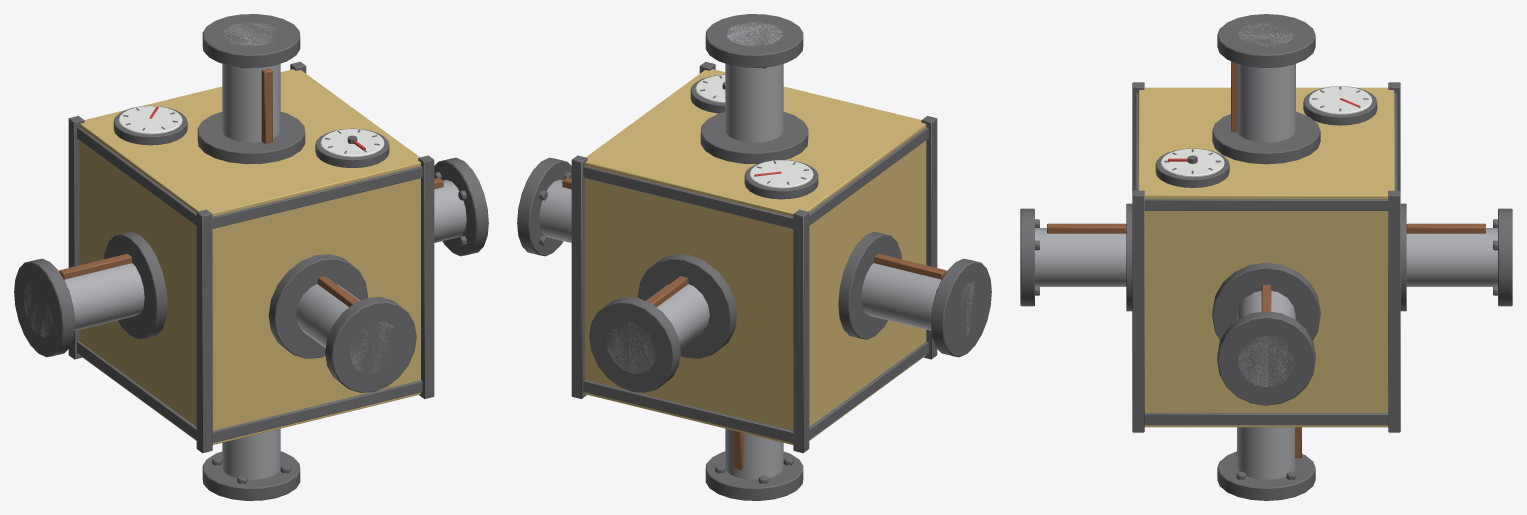
Rendered from feTorqueGauge.fbx.
3 views of the same model, side by side, from view 1: azimuth 30°, elevation 25°; view 2: azimuth 150°, elevation 25°; view 3: azimuth 270°, elevation 25° (orthographic).
Parts seen in each view (by area): view 1: feTorqueGauge_Base, FeSpin_Gauge4, FeSpin_Gauge2, FeSpin_Gauge5, FeSpin_Gauge6, FeSpin_Gauge3; view 2: feTorqueGauge_Base, FeSpin_Gauge4, FeSpin_Gauge1, FeSpin_Gauge5, FeSpin_Gauge6, FeSpin_Gauge3; view 3: feTorqueGauge_Base, FeSpin_Gauge5, FeSpin_Gauge3, FeSpin_Gauge1, FeSpin_Gauge2, FeSpin_Gauge6.
Boxes of the visible parts, x1,y1,x2,y2 form: feTorqueGauge_Base: [68, 61, 434, 453]; FeSpin_Gauge4: [14, 253, 144, 357]; FeSpin_Gauge2: [296, 276, 416, 392]; FeSpin_Gauge5: [202, 14, 300, 143]; FeSpin_Gauge6: [202, 428, 300, 500]; FeSpin_Gauge3: [434, 157, 488, 256]; feTorqueGauge_Base: [571, 61, 937, 453]; FeSpin_Gauge4: [861, 253, 991, 357]; FeSpin_Gauge1: [589, 276, 709, 392]; FeSpin_Gauge5: [705, 14, 803, 142]; FeSpin_Gauge6: [705, 428, 803, 500]; FeSpin_Gauge3: [517, 157, 571, 256]; feTorqueGauge_Base: [1126, 82, 1406, 432]; FeSpin_Gauge5: [1217, 14, 1315, 142]; FeSpin_Gauge3: [1217, 285, 1315, 405]; FeSpin_Gauge1: [1406, 208, 1512, 306]; FeSpin_Gauge2: [1020, 208, 1126, 306]; FeSpin_Gauge6: [1217, 427, 1315, 500].
Size of the model in its own units: 1 by 1 by 1.
